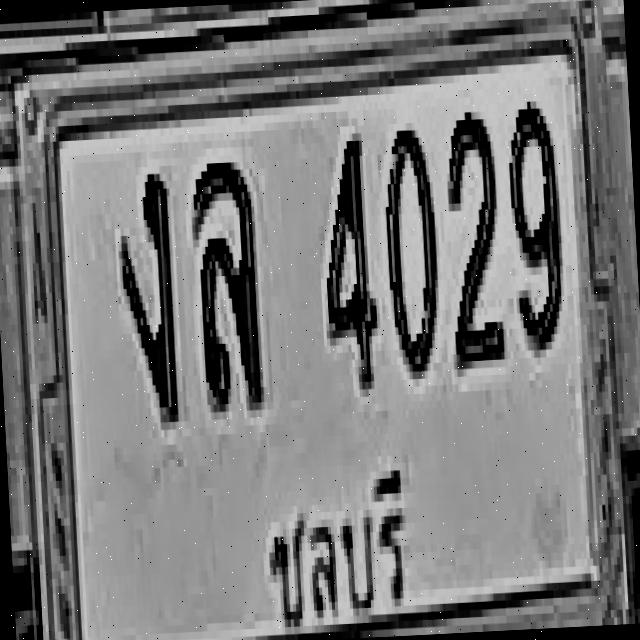0: (377, 101, 445, 398)
16NgorNgu: (105, 145, 197, 436)
2: (441, 87, 517, 422)
4: (304, 100, 394, 424)
45LorLing: (183, 144, 270, 426)
9: (504, 78, 583, 400)
Chonburi: (229, 433, 407, 640)
